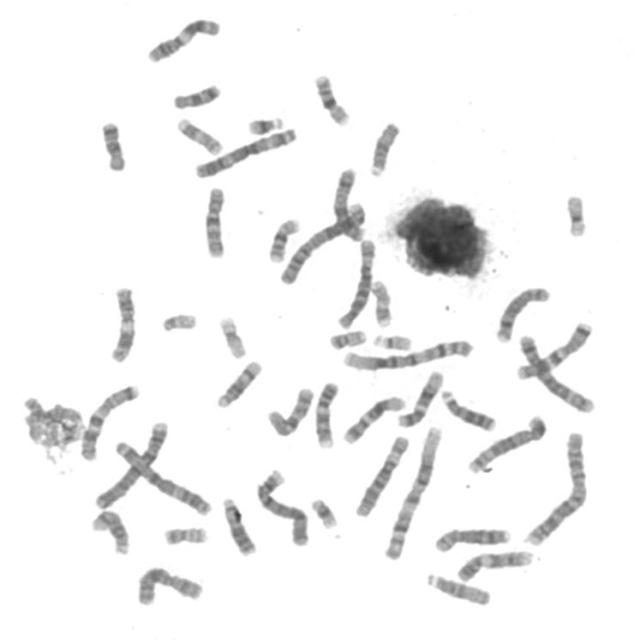A1: (380, 421, 445, 562), (338, 334, 476, 373)
A2: (522, 427, 590, 548), (276, 199, 367, 286)
A3: (110, 435, 214, 518), (191, 123, 300, 180)
B4: (91, 416, 170, 512), (253, 465, 312, 548)
B5: (514, 330, 597, 415), (464, 412, 550, 476)
C10: (263, 382, 317, 438), (200, 181, 228, 260)
C11: (143, 14, 223, 64), (105, 282, 138, 365)
C12: (339, 391, 407, 446), (392, 365, 446, 429)
C6: (352, 431, 412, 518), (334, 234, 379, 330)
C7: (512, 316, 596, 382), (76, 380, 142, 462)
C8: (492, 282, 552, 344), (431, 523, 512, 554)
C9: (452, 546, 536, 583), (310, 378, 341, 450)
D13: (438, 385, 499, 433), (218, 492, 258, 558)
D14: (212, 356, 264, 410), (87, 506, 132, 557)
D15: (422, 569, 493, 608), (365, 118, 403, 178)
E16: (310, 70, 352, 127), (265, 215, 302, 264)
E17: (173, 114, 225, 156), (368, 276, 395, 329)
E18: (97, 117, 128, 173), (169, 80, 223, 111)
F19: (214, 312, 250, 359), (561, 190, 590, 239)
F20: (159, 522, 210, 547), (326, 326, 368, 350)
G21: (307, 494, 340, 530), (243, 112, 286, 136)
G22: (368, 329, 414, 352), (158, 309, 198, 333)
X: (132, 562, 205, 609), (329, 163, 368, 243)
